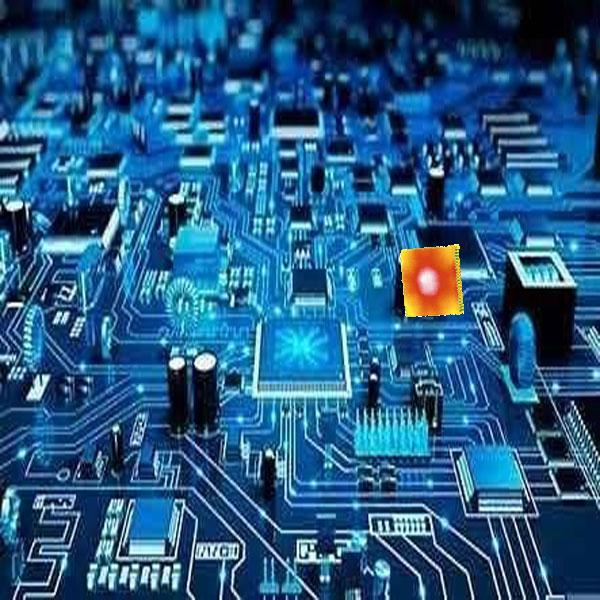componente_T: (397, 244, 470, 319)
